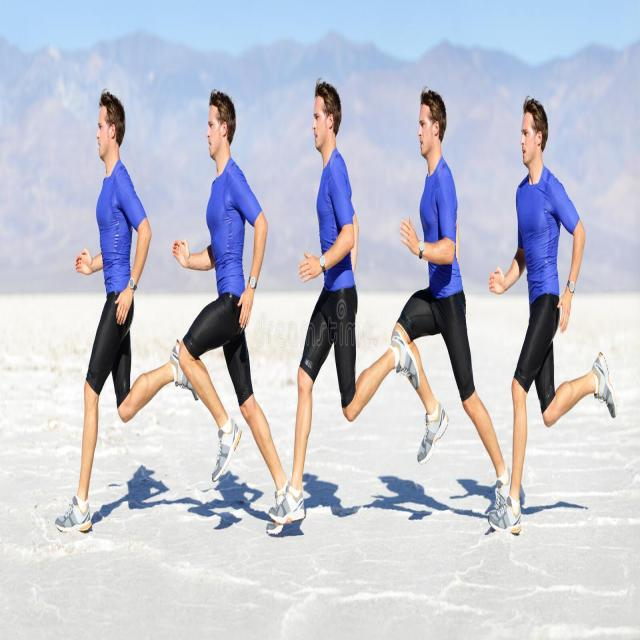running: (486, 91, 618, 539), (54, 87, 171, 536), (282, 77, 395, 538), (171, 86, 282, 537), (394, 73, 495, 501)
